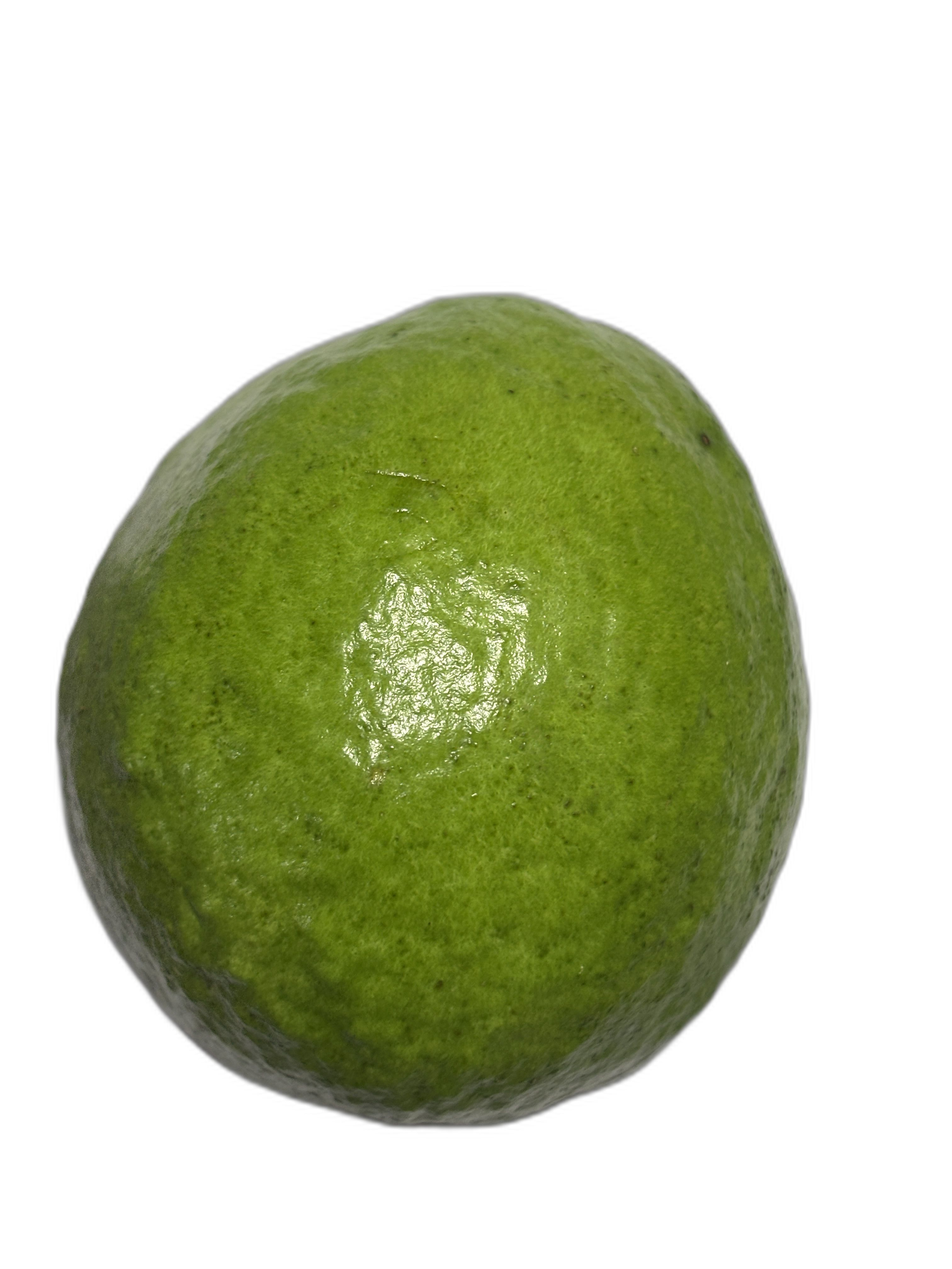guava: (15, 129, 806, 1191)
